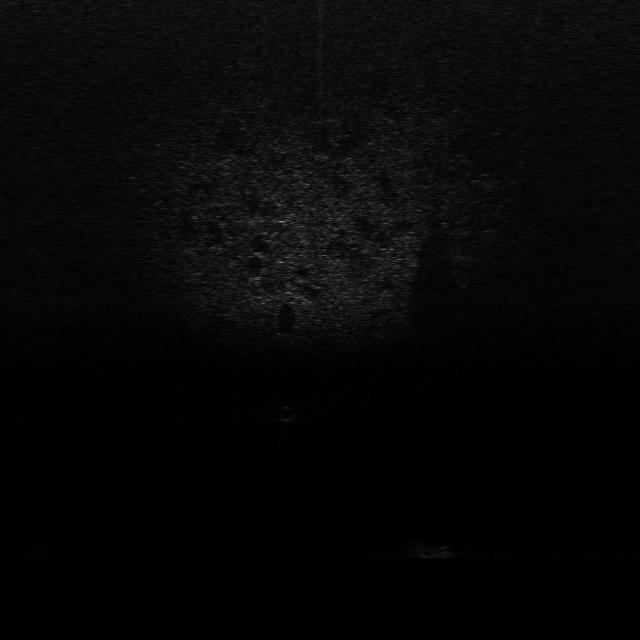ball: (274, 404, 298, 424)
metal bucket: (404, 539, 464, 564)
